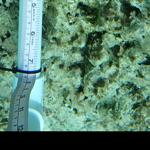dead: (1, 1, 148, 131)
